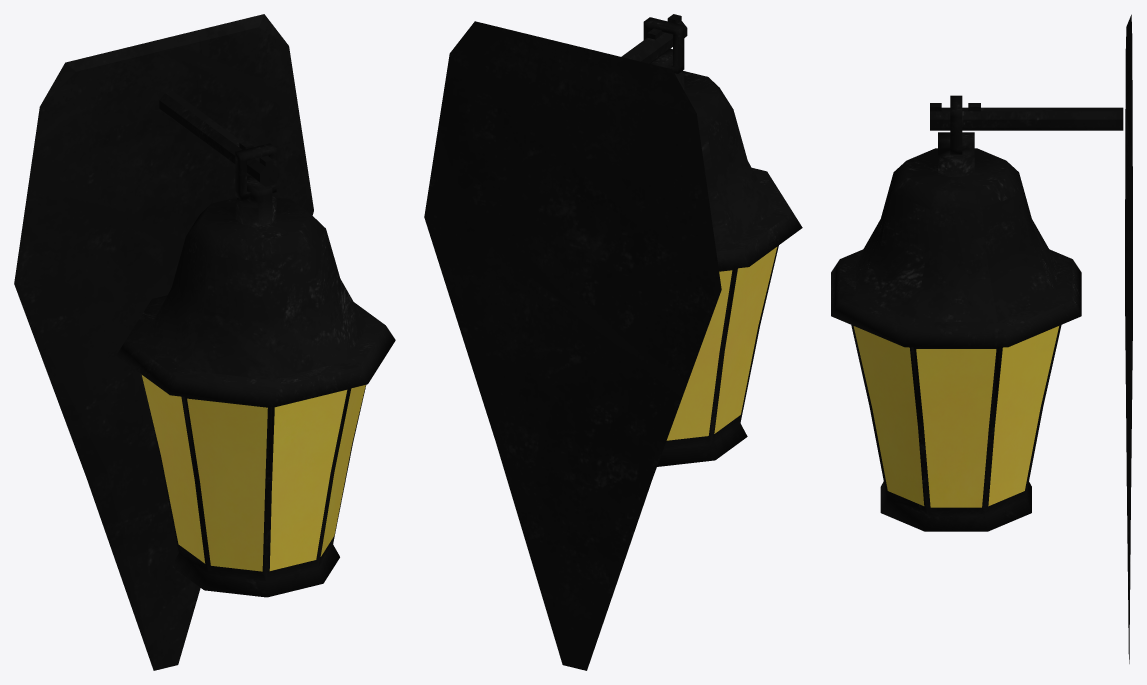
File: lamp.fbx
3 views of the same model, side by side, from view 1: azimuth 30°, elevation 25°; view 2: azimuth 150°, elevation 25°; view 3: azimuth 270°, elevation 25° (orthographic). The views are drawn at different scales.
Parts seen in each view (by area): view 1: WallLampUVP_WallLampUVPMat_0; view 2: WallLampUVP_WallLampUVPMat_0; view 3: WallLampUVP_WallLampUVPMat_0.
Part boxes in pixels (bbox=[...]): WallLampUVP_WallLampUVPMat_0: bbox=[14, 14, 395, 670]; WallLampUVP_WallLampUVPMat_0: bbox=[424, 14, 802, 670]; WallLampUVP_WallLampUVPMat_0: bbox=[831, 14, 1132, 663].
Size of the model in its own units: 114 by 228 by 103.
